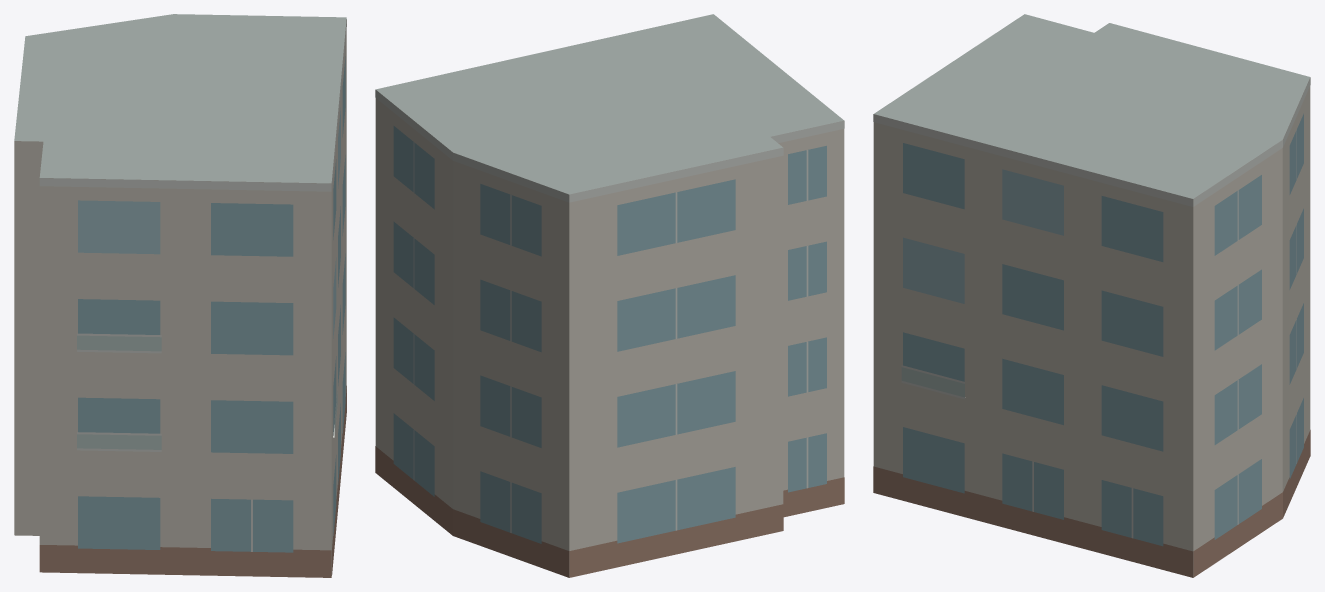
File: survey-upis-32721551.glb
3 views of the same model, side by side, from view 1: azimuth 30°, elevation 25°; view 2: azimuth 150°, elevation 25°; view 3: azimuth 270°, elevation 25° (orthographic). The views are drawn at different scales.
Parts seen in each view (by area): view 1: survey-upis-32721551.tmp; view 2: survey-upis-32721551.tmp; view 3: survey-upis-32721551.tmp.
Boxes of the visible parts, x1=… form: survey-upis-32721551.tmp: x1=14, y1=14, x2=346, y2=577; survey-upis-32721551.tmp: x1=375, y1=14, x2=844, y2=577; survey-upis-32721551.tmp: x1=873, y1=14, x2=1310, y2=577.
Bounding box in the file's own units: 12.06 × 11.5 × 12.03.
